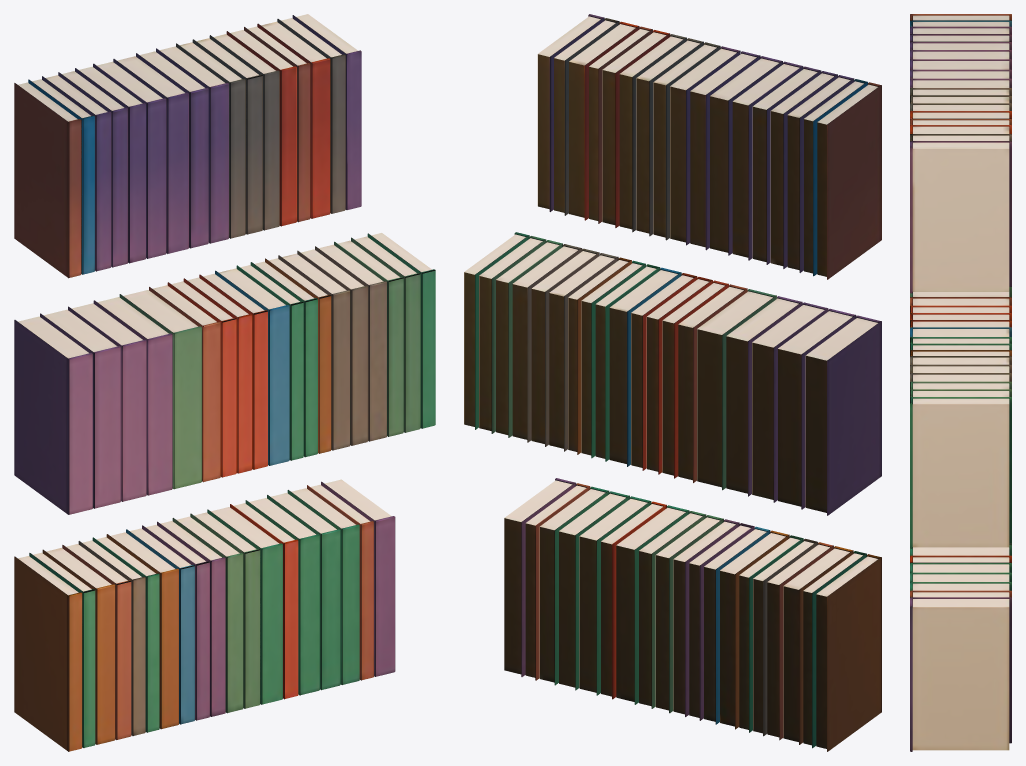
Rendered from books.glb.
The picture shows the model from 3 angles, left to right: view 1: azimuth 30°, elevation 25°; view 2: azimuth 150°, elevation 25°; view 3: azimuth 270°, elevation 25°; orthographic projection. The views are drawn at different scales.
Parts seen in each view (by area): view 1: Body_9780553579901, Body_9782253011019, Body_9782742793129, Body_9780140449266, Body_9780553573428, Body_9780553582017, Body_9780553582024, Body_9780374528379, Body_9781408855690, Body_9782072927515, Body_9780140447927, Body_9780553386790 (+43 smaller); view 2: Body_9780553579901, Body_9782253011019, Body_9782742793129, Body_9780140449266, Body_9780553573428, Body_9780553582024, Body_9780553582017, Body_9780374528379, Body_9781408855690, Body_9782072927515, Body_9780140447927, Body_9780553386790 (+43 smaller); view 3: Body_9780553386790, Body_9782290308370, Body_9780140441208, Body_9780140447927, Body_9781408855690, Body_9780140449136, Body_9782072927515, Body_9781408855683, Body_9781408855706, Body_9781408855713, Body_9780374528379, Body_9780812972078 (+27 smaller).
Part boxes in pixels (bbox=[...]): Body_9780553579901: bbox=[14, 316, 92, 514]; Body_9782253011019: bbox=[14, 556, 82, 751]; Body_9782742793129: bbox=[14, 82, 81, 278]; Body_9780140449266: bbox=[119, 290, 201, 489]; Body_9780553573428: bbox=[40, 309, 120, 508]; Body_9780553582017: bbox=[93, 297, 172, 495]; Body_9780553582024: bbox=[68, 303, 146, 501]; Body_9780374528379: bbox=[207, 507, 282, 704]; Body_9781408855690: bbox=[113, 56, 188, 253]; Body_9782072927515: bbox=[215, 268, 289, 465]; Body_9780140447927: bbox=[245, 498, 319, 695]; Body_9780553386790: bbox=[321, 479, 395, 676]; Body_9780553579901: bbox=[805, 315, 881, 515]; Body_9782253011019: bbox=[816, 554, 881, 751]; Body_9782742793129: bbox=[817, 82, 881, 279]; Body_9780140449266: bbox=[697, 289, 776, 490]; Body_9780553573428: bbox=[778, 308, 856, 509]; Body_9780553582024: bbox=[752, 302, 828, 502]; Body_9780553582017: bbox=[726, 296, 802, 496]; Body_9780374528379: bbox=[616, 505, 689, 704]; Body_9781408855690: bbox=[710, 56, 782, 255]; Body_9782072927515: bbox=[609, 267, 681, 466]; Body_9780140447927: bbox=[579, 496, 651, 695]; Body_9780553386790: bbox=[504, 478, 576, 676]; Body_9780553386790: bbox=[910, 597, 1011, 751]; Body_9782290308370: bbox=[910, 141, 1011, 293]; Body_9780140441208: bbox=[910, 397, 1011, 548]; Body_9780140447927: bbox=[910, 562, 1011, 572]; Body_9781408855690: bbox=[910, 59, 1011, 69]; Body_9780140449136: bbox=[910, 572, 1011, 581]; Body_9782072927515: bbox=[910, 327, 1011, 336]; Body_9781408855683: bbox=[910, 50, 1011, 59]; Body_9781408855706: bbox=[910, 69, 1011, 78]; Body_9781408855713: bbox=[910, 78, 1011, 87]; Body_9780374528379: bbox=[910, 545, 1011, 555]; Body_9780812972078: bbox=[910, 582, 1011, 590].
Bounding box in the file's own units: 0.5846 × 0.957 × 0.15.
Materials: 1 (1 with a texture image).
